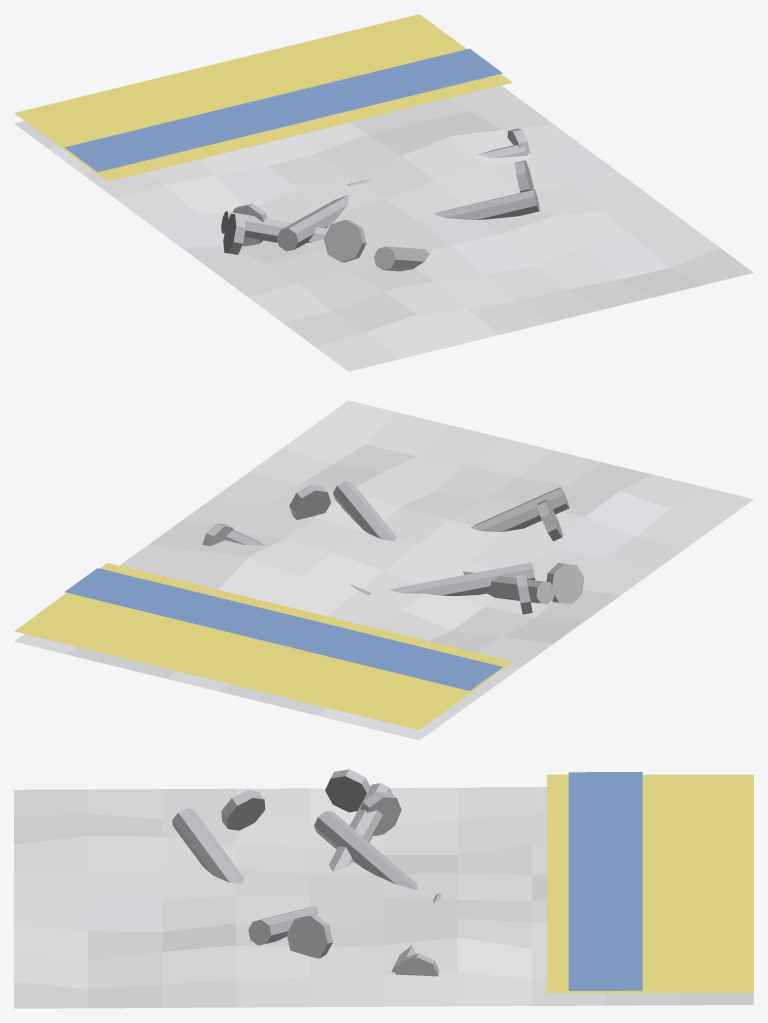
Rendered from screw.fbx.
The picture shows the model from 3 angles, top to bottom: view 1: azimuth 30°, elevation 25°; view 2: azimuth 150°, elevation 25°; view 3: azimuth 270°, elevation 25°; orthographic projection. The views are drawn at different scales.
Parts seen in each view (by area): view 1: VinylBag, Label, Label_Blue, Screw_Body_1, Screw_Body_0, Screw_Head_2, Screw_Body_4, Screw_Body_2, Screw_Head_4; view 2: VinylBag, Label, Label_Blue, Screw_Body_0, Screw_Body_2, Screw_Body_1, Screw_Body_4, Screw_Head_4, Screw_Head_1, Screw_Head_2; view 3: VinylBag, Label, Label_Blue, Screw_Body_0, Screw_Body_2, Screw_Head_1, Screw_Head_4, Screw_Body_4, Screw_Head_2, Screw_Body_1, Screw_Head_0, Screw_Head_3.
Part boxes in pixels (x1,y1,x2,y2): VinylBag: (14, 85, 753, 371); Label: (14, 14, 512, 181); Label_Blue: (64, 48, 502, 171); Screw_Body_1: (434, 189, 539, 219); Screw_Body_0: (276, 195, 348, 251); Screw_Head_2: (323, 219, 366, 262); Screw_Body_4: (221, 211, 328, 242); Screw_Body_2: (374, 246, 429, 271); Screw_Head_4: (223, 214, 245, 254); VinylBag: (14, 400, 753, 740); Label: (14, 563, 512, 730); Label_Blue: (64, 568, 502, 690); Screw_Body_0: (389, 562, 535, 595); Screw_Body_2: (471, 487, 569, 531); Screw_Body_1: (333, 481, 396, 541); Screw_Body_4: (463, 571, 553, 604); Screw_Head_4: (546, 563, 584, 604); Screw_Head_1: (289, 484, 330, 519); Screw_Head_2: (537, 499, 562, 541); VinylBag: (14, 787, 753, 1008); Label: (547, 774, 753, 993); Label_Blue: (568, 772, 642, 990); Screw_Body_0: (314, 811, 417, 889); Screw_Body_2: (172, 808, 243, 883); Screw_Head_1: (286, 914, 332, 958); Screw_Head_4: (325, 769, 370, 812); Screw_Body_4: (329, 783, 393, 871); Screw_Head_2: (221, 790, 265, 830); Screw_Body_1: (248, 906, 317, 945); Screw_Head_0: (360, 791, 401, 835); Screw_Head_3: (395, 953, 439, 976).
Size of the model in its own units: 70 by 16.47 by 100.
